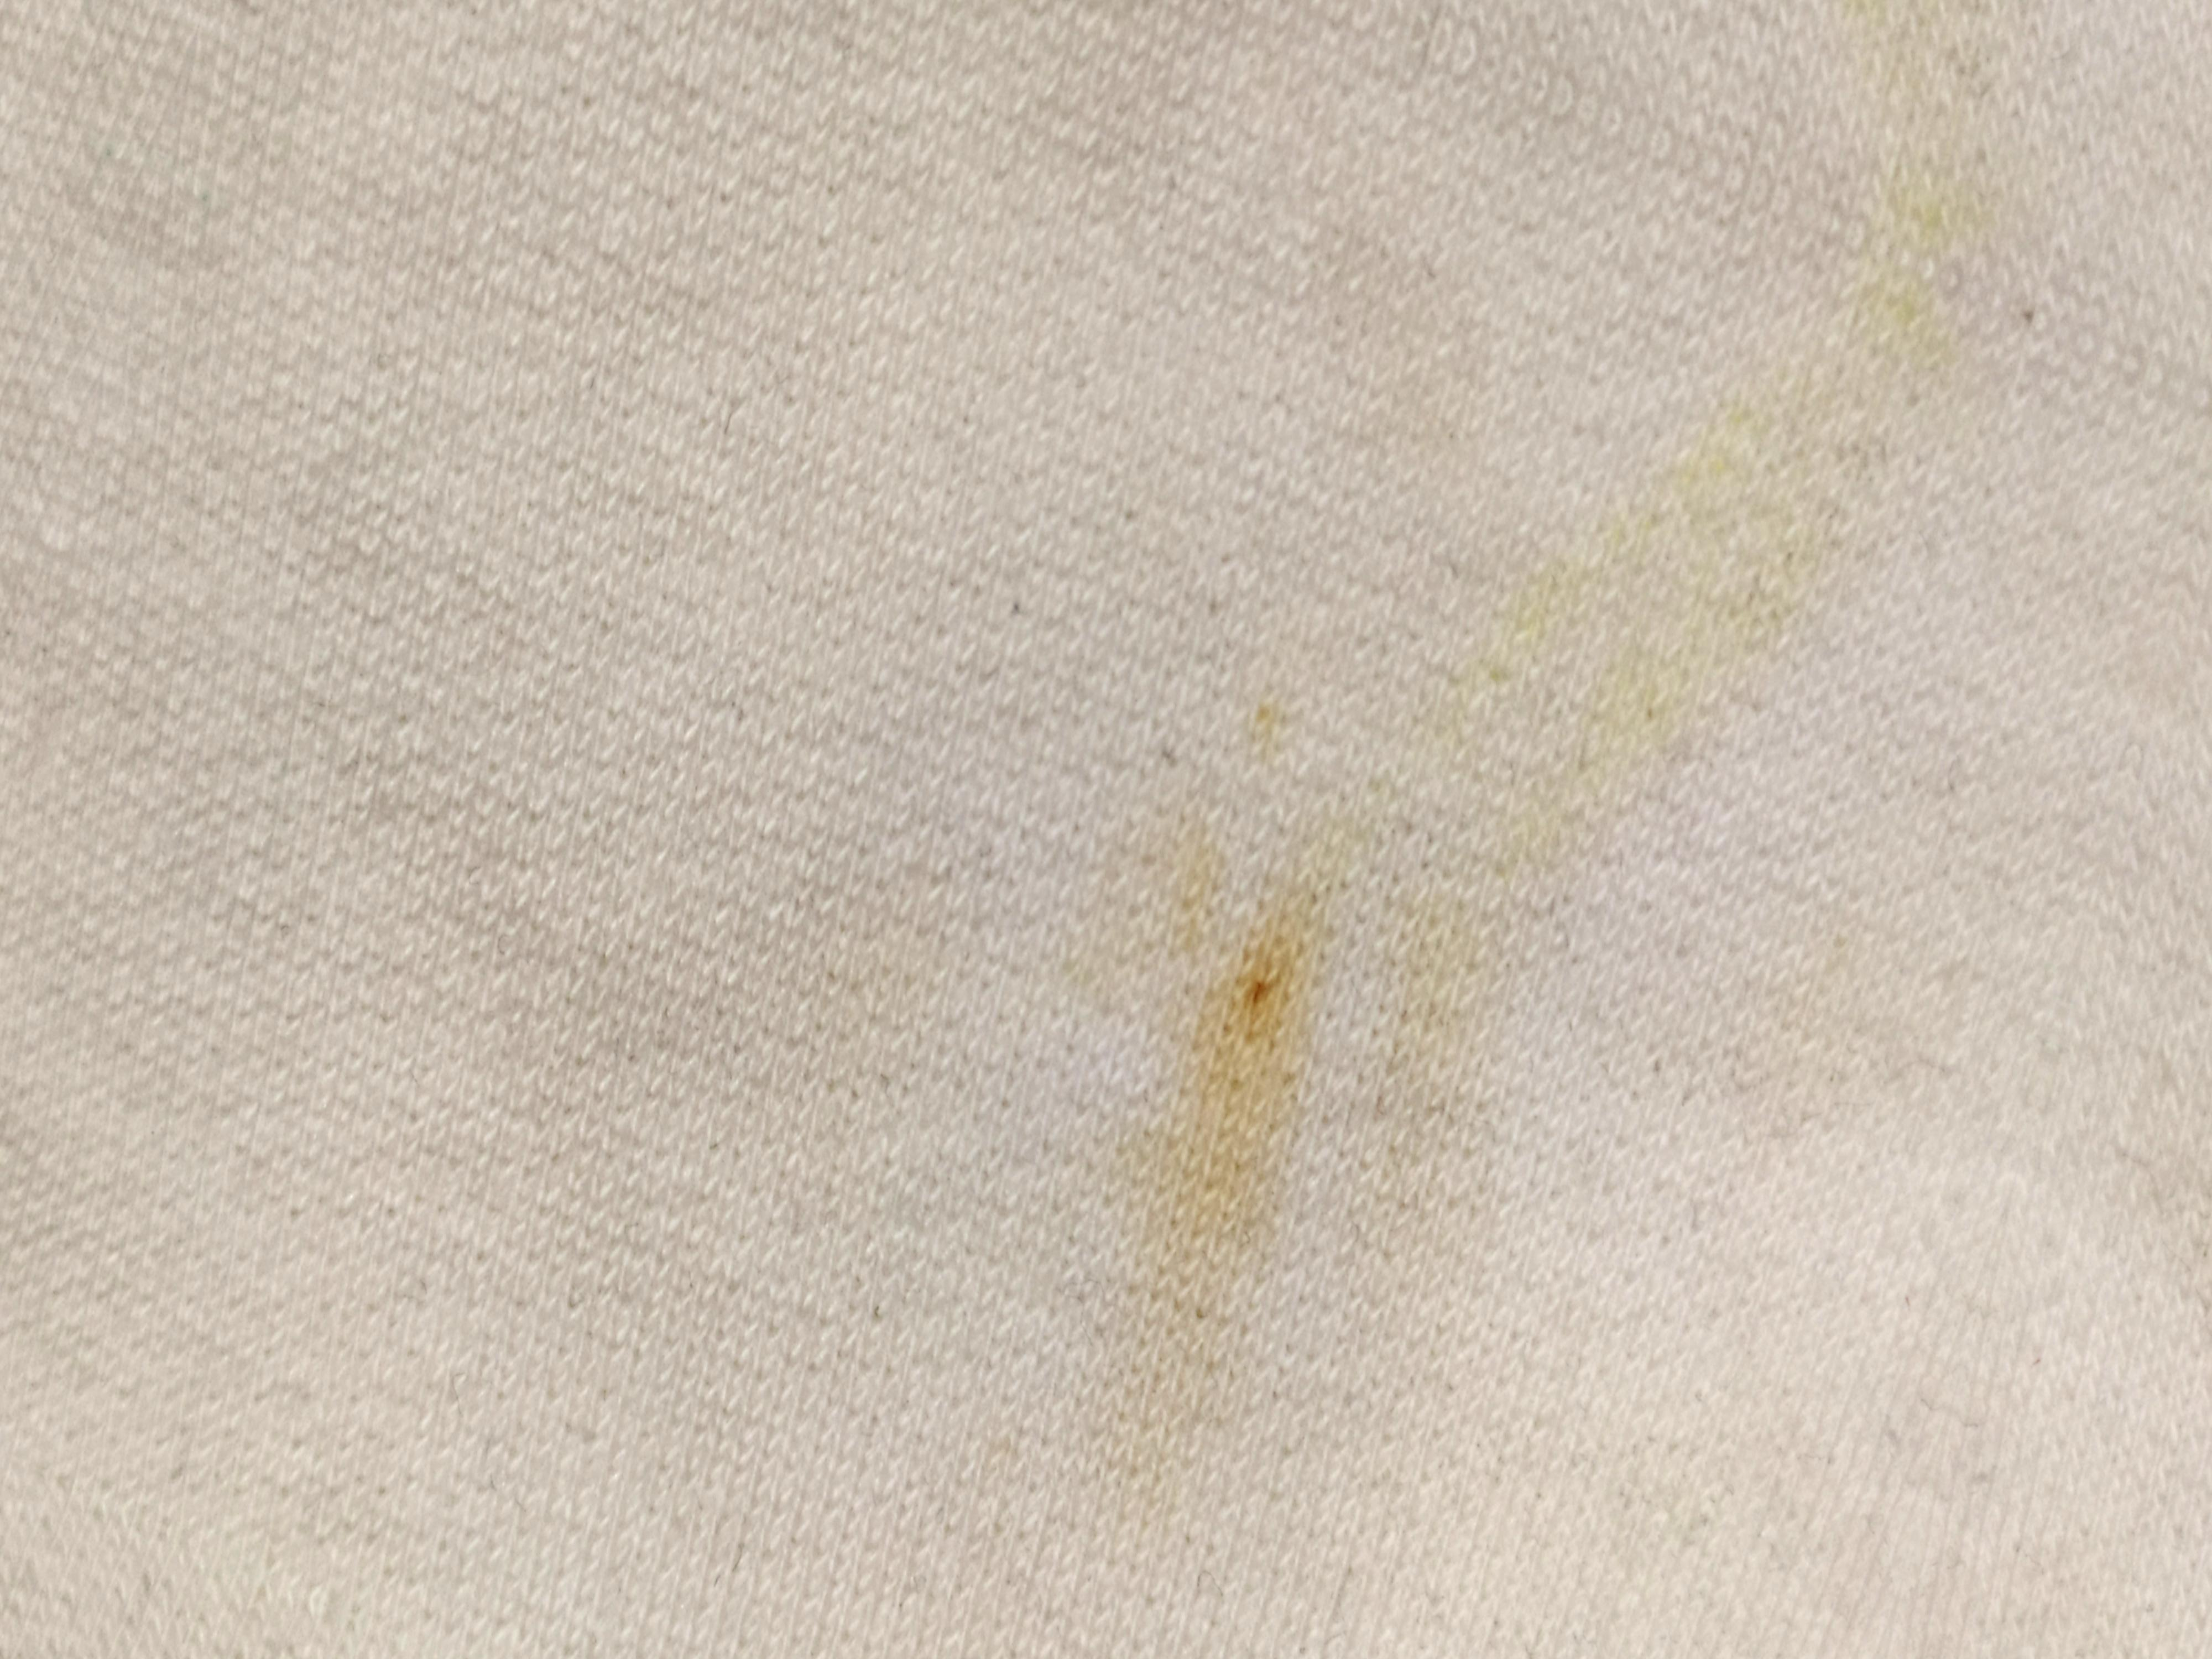stain: (1129, 856, 1350, 1302)
